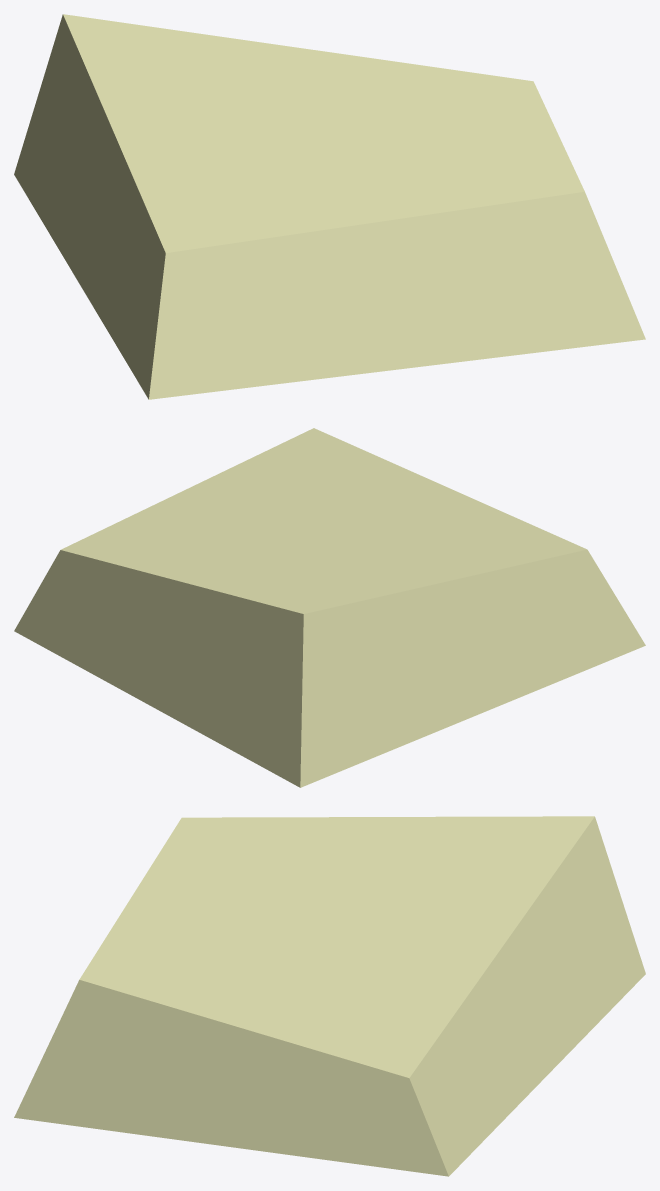
The model's file is Rock_Mesa_Small_5.fbx.
The picture shows the model from 3 angles, top to bottom: view 1: azimuth 30°, elevation 25°; view 2: azimuth 150°, elevation 25°; view 3: azimuth 270°, elevation 25°; orthographic projection. The views are drawn at different scales.
Visible parts, largest first — view 1: Rock; view 2: Rock; view 3: Rock.
Part boxes in pixels (x1=…): Rock: x1=14, y1=14, x2=645, y2=399; Rock: x1=14, y1=428, x2=645, y2=787; Rock: x1=14, y1=816, x2=645, y2=1176.
Size of the model in its own units: 17.96 by 5.34 by 18.16.
